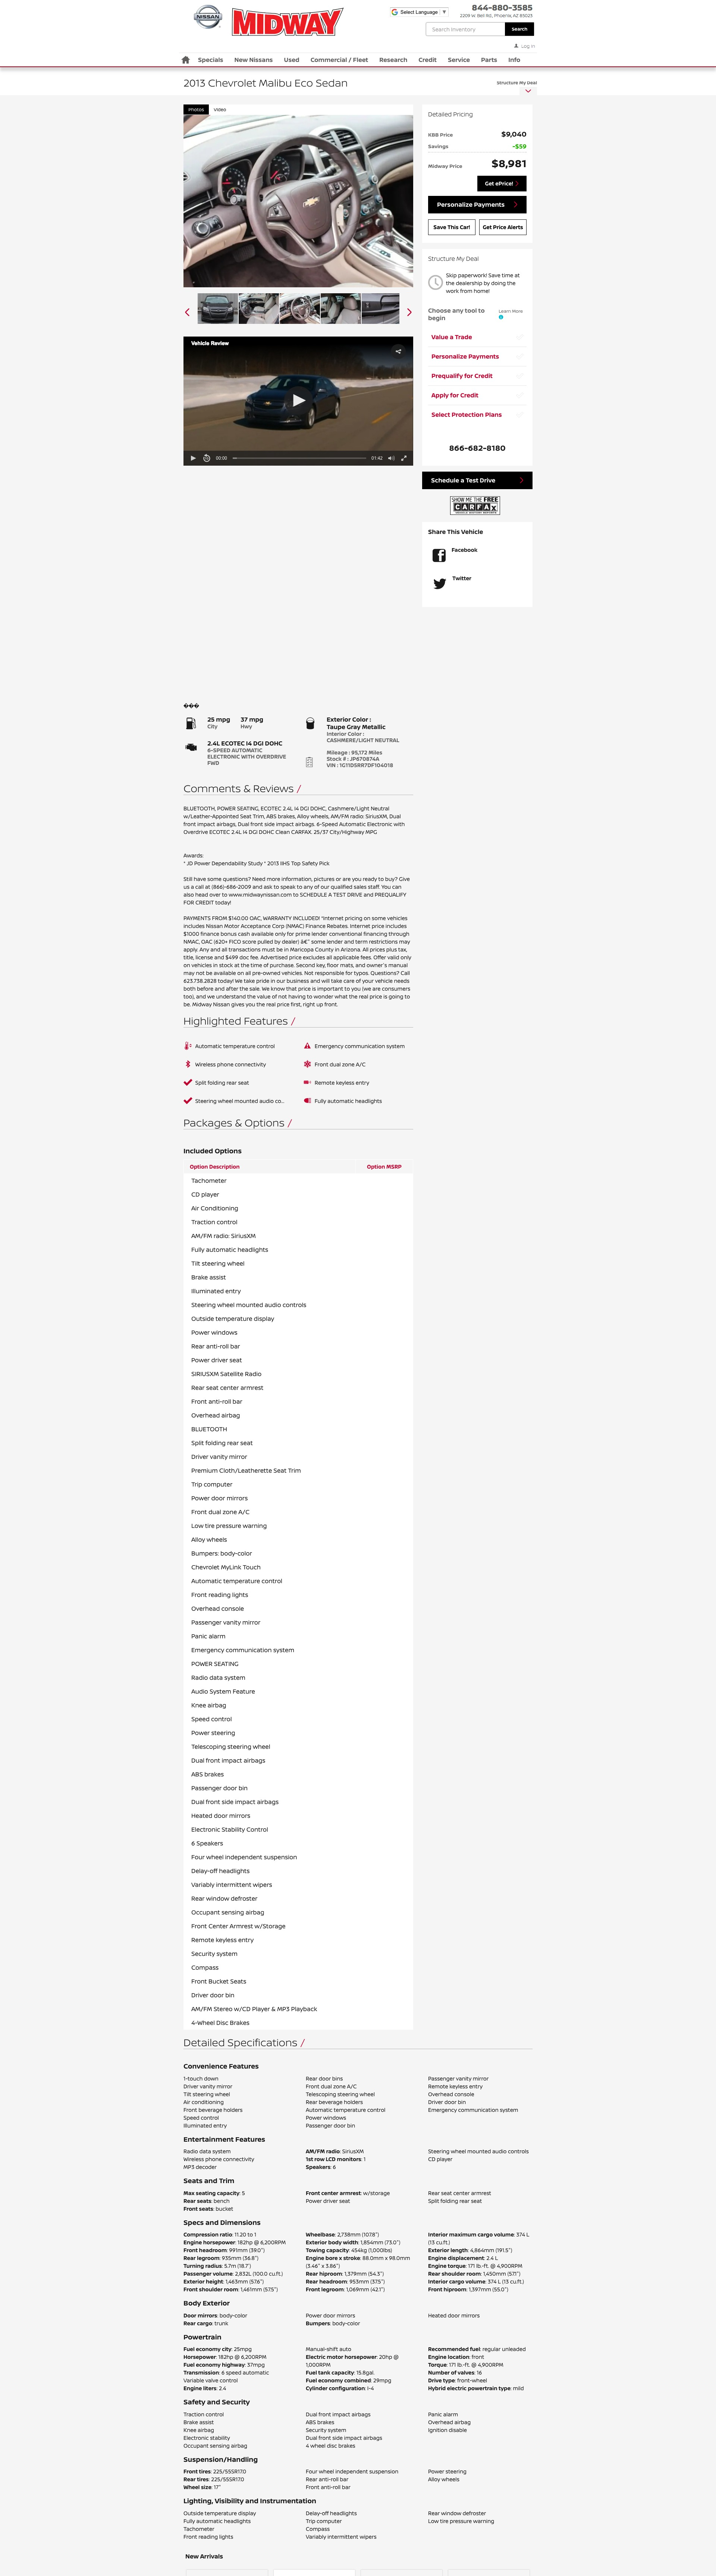car: (407, 309, 412, 317)
